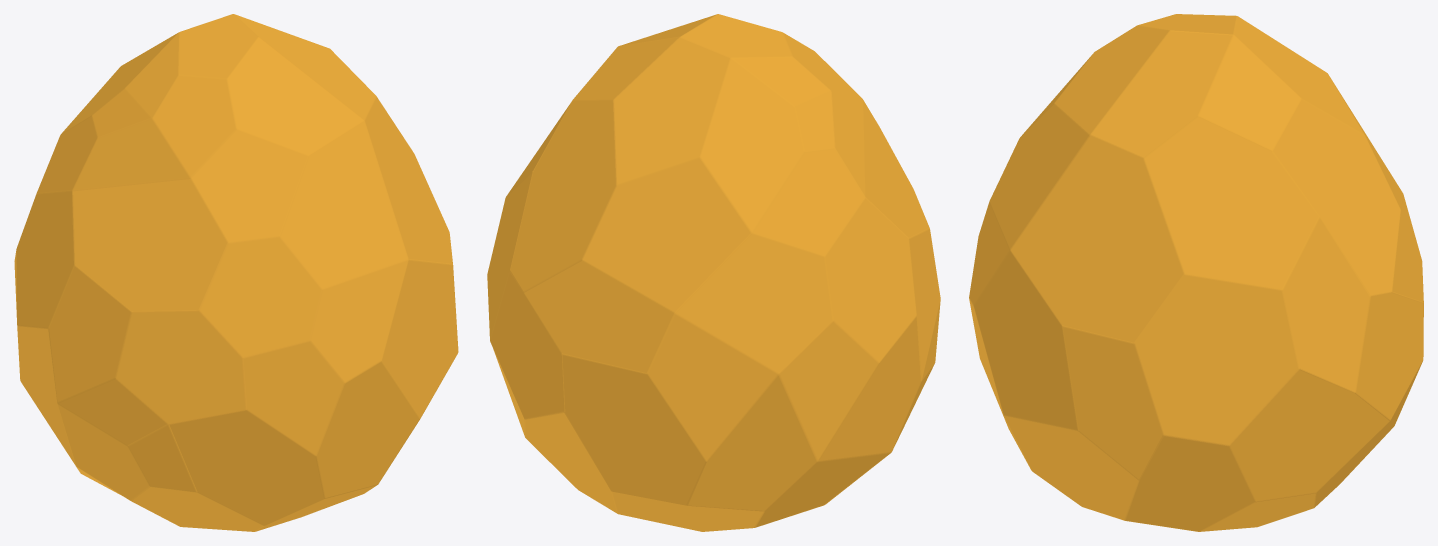
3 views of the same model, side by side, from view 1: azimuth 30°, elevation 25°; view 2: azimuth 150°, elevation 25°; view 3: azimuth 270°, elevation 25° (orthographic).
Visible parts, largest first — view 1: egg; view 2: egg; view 3: egg.
Part boxes in pixels (x1=…): egg: x1=14, y1=14, x2=458, y2=531; egg: x1=487, y1=14, x2=940, y2=531; egg: x1=969, y1=14, x2=1423, y2=531.
Size of the model in its own units: 2.41 by 2.84 by 2.42.
